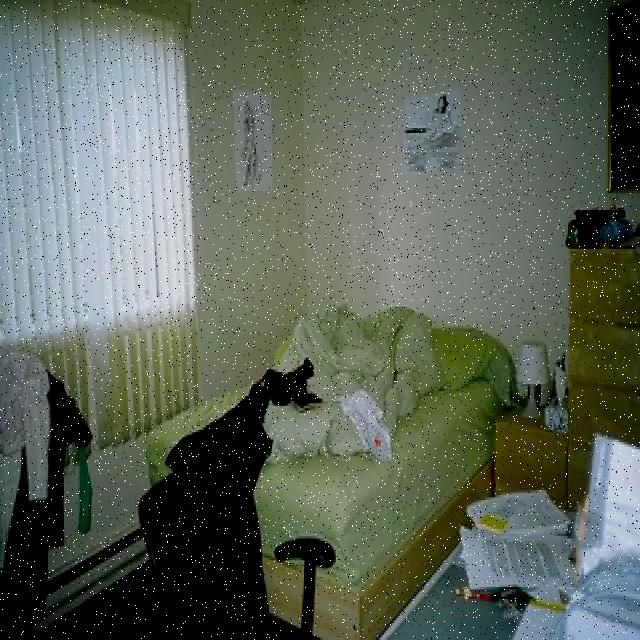bed: (146, 283, 506, 596)
